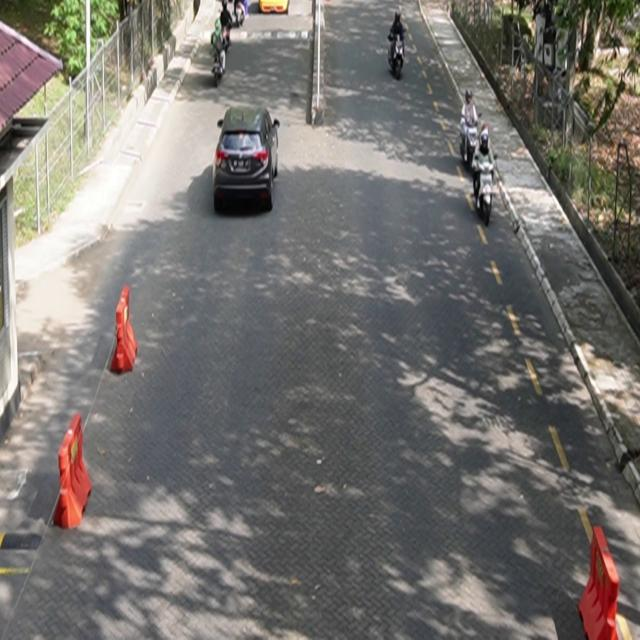car: (213, 105, 281, 213)
